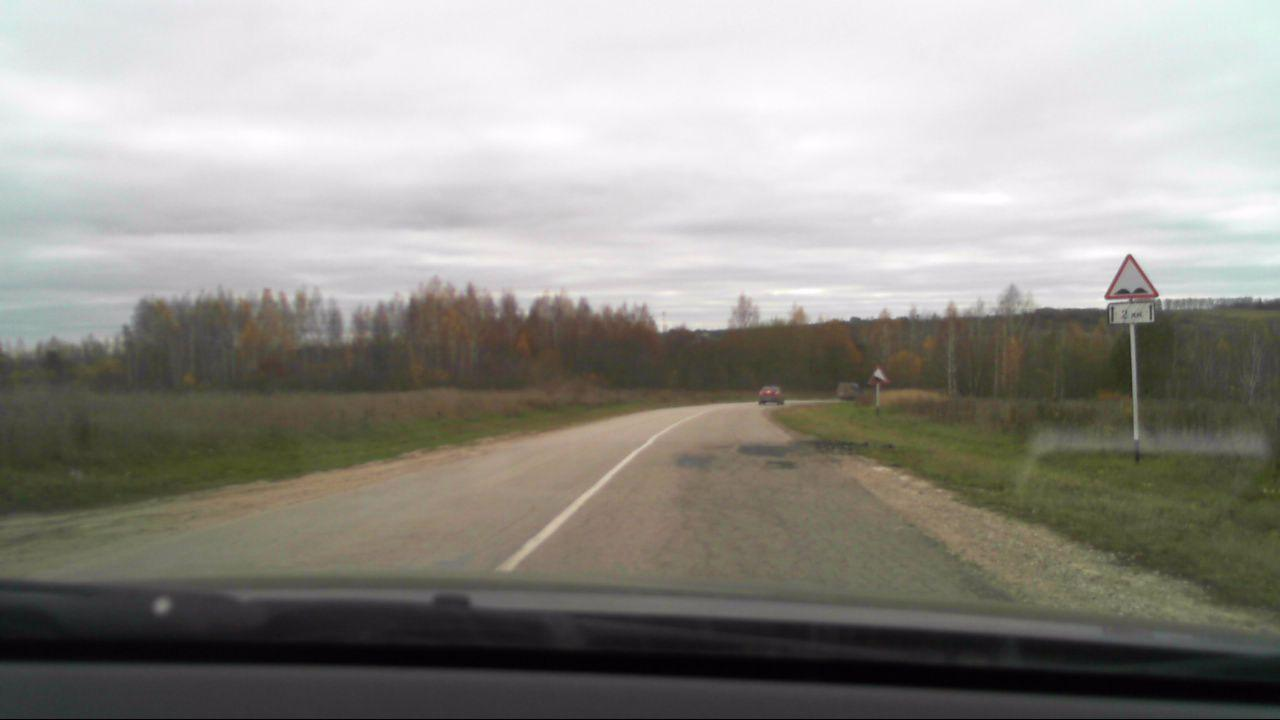1_13: (864, 364, 888, 385)
1_16: (1103, 253, 1159, 298)
8_2_1: (1102, 298, 1161, 325)
